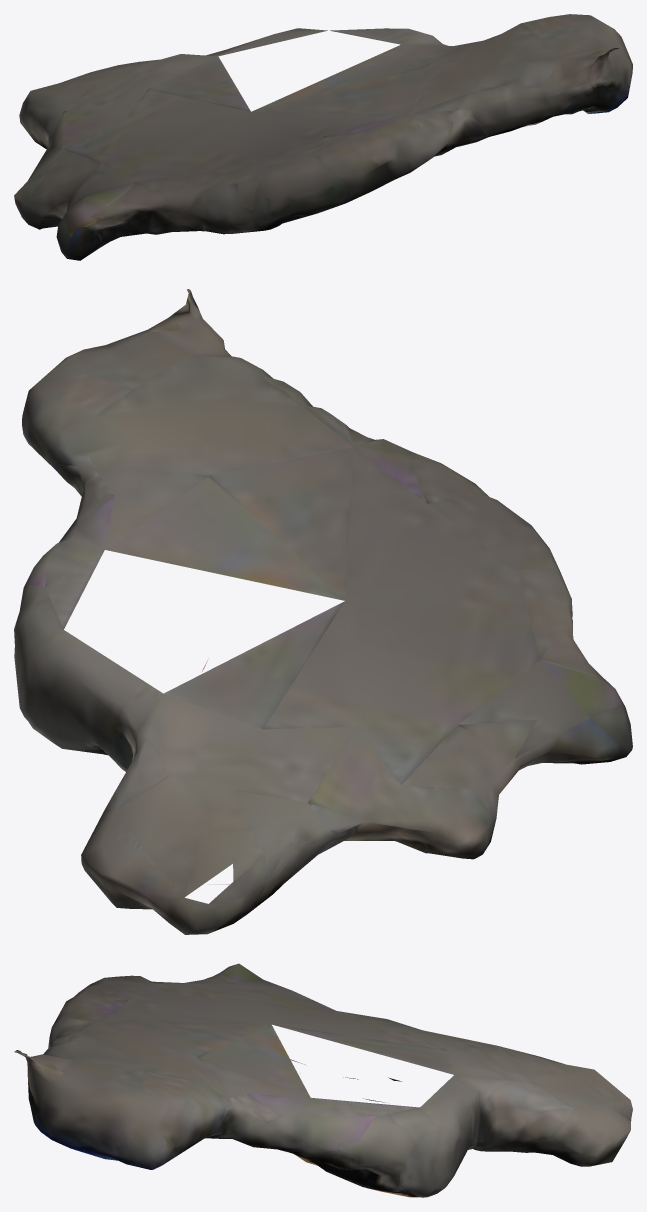
The model's file is hall.glb.
3 renders of one model, top to bottom at view 1: azimuth 30°, elevation 25°; view 2: azimuth 150°, elevation 25°; view 3: azimuth 270°, elevation 25°, orthographic. The views are drawn at different scales.
Bounding box in the file's own units: 0.5875 × 0.2444 × 0.5851.
Materials: 1 (1 with a texture image).
